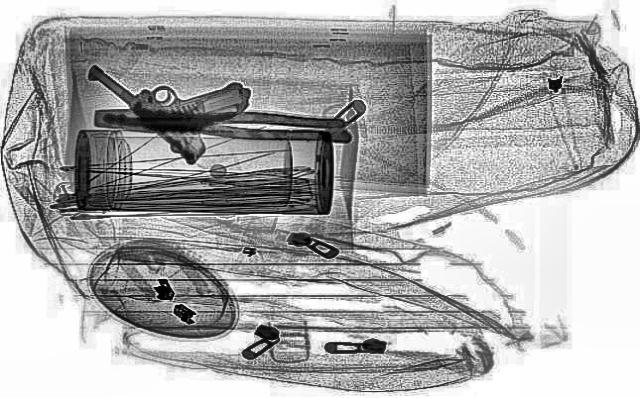Gun: (75, 30, 292, 166)
Pliers: (92, 102, 354, 144)
